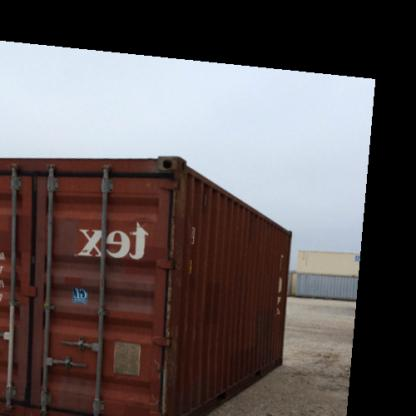Damage: (164, 192, 182, 257), (160, 274, 174, 344), (160, 352, 172, 404)
